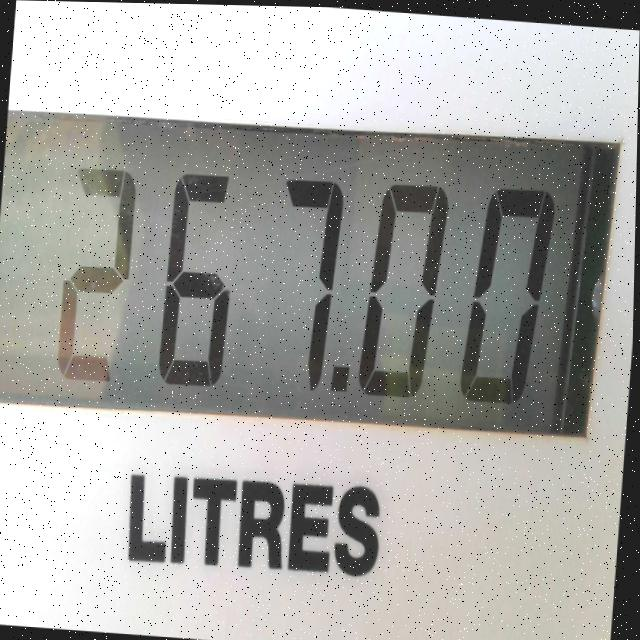.: (322, 346, 363, 411)
0: (353, 158, 462, 421), (452, 169, 563, 412)
2: (16, 149, 155, 392)
6: (148, 152, 249, 410)
7: (257, 163, 355, 404)
